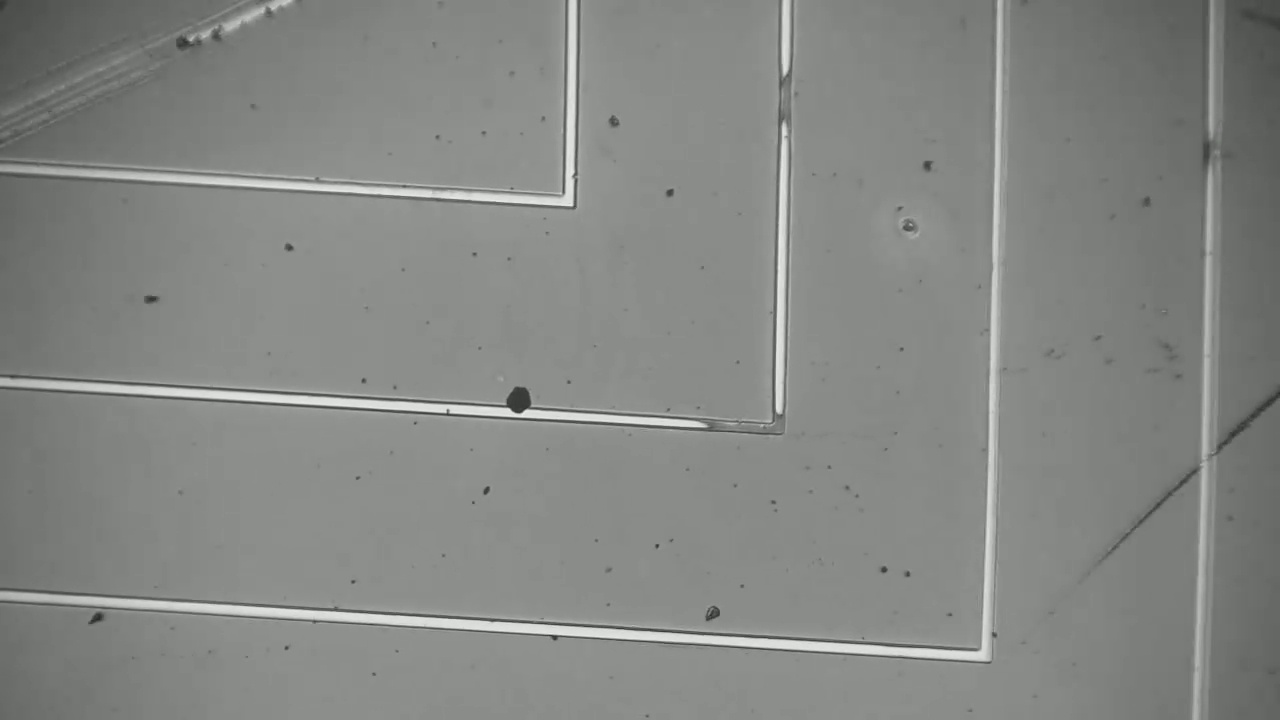edge_bite: (558, 166, 583, 183)
gray_line: (765, 57, 802, 143), (691, 413, 807, 440), (1196, 122, 1234, 179), (763, 403, 790, 444)
scratch: (0, 5, 291, 157), (1059, 399, 1279, 599)
stains_enbedded: (498, 374, 535, 429)
